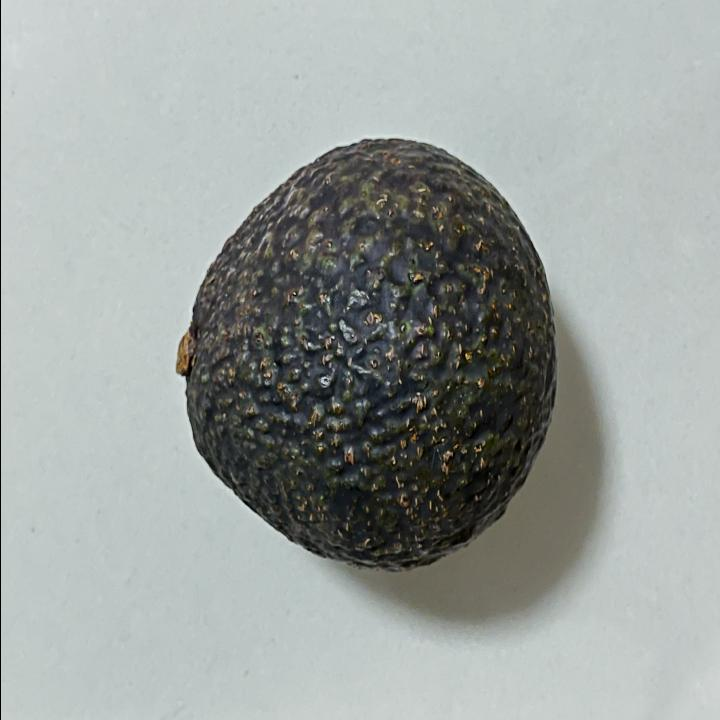Level2: (162, 127, 562, 579)
